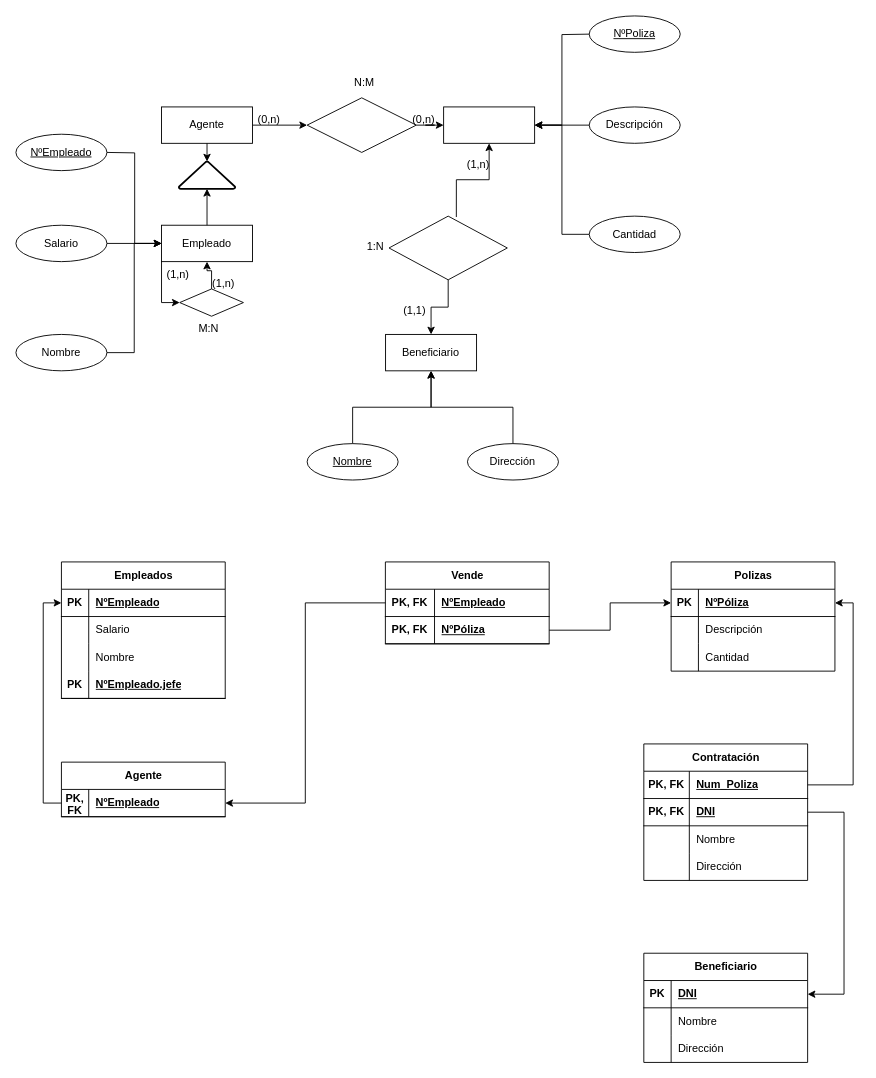
The diagram is 876 pixels wide and 1078 high, and some of its shapes have lost their labels. The shapes that lost their labels are listed below. From the top down, each one's centre as x and y in pixels, then its label:
(361,124): Venden
(489,124): Poliza
(206,174): ISA
(447,247): Compran
(211,302): es jefe
